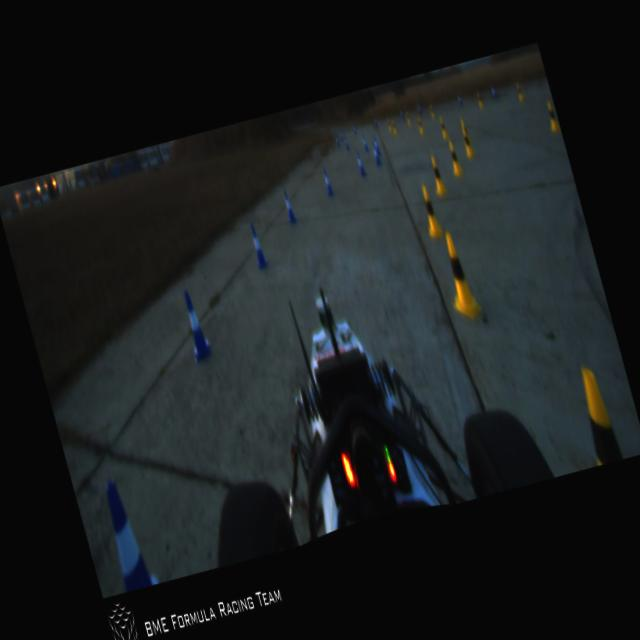blue_cone: (96, 472, 160, 592), (176, 288, 214, 362), (247, 222, 269, 270), (282, 190, 296, 222), (321, 168, 334, 196), (354, 152, 367, 176), (370, 143, 380, 165), (372, 135, 382, 155), (360, 133, 370, 152), (490, 82, 498, 100), (456, 91, 464, 108), (342, 134, 349, 150), (372, 114, 379, 130), (415, 101, 422, 116), (334, 133, 340, 148)
yellow_cone: (573, 364, 623, 466), (435, 229, 484, 323), (416, 182, 444, 240), (427, 152, 448, 195), (446, 138, 466, 176), (543, 100, 561, 134), (461, 128, 476, 158), (460, 118, 472, 146), (438, 116, 450, 140), (415, 114, 425, 136), (514, 80, 524, 100), (475, 89, 484, 108), (428, 102, 436, 120), (404, 108, 412, 125), (385, 116, 393, 133), (390, 120, 398, 136)
